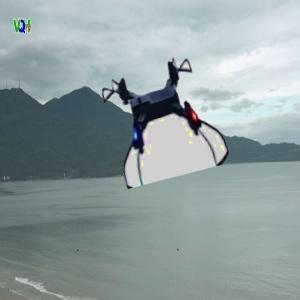drone: (103, 61, 222, 180)
